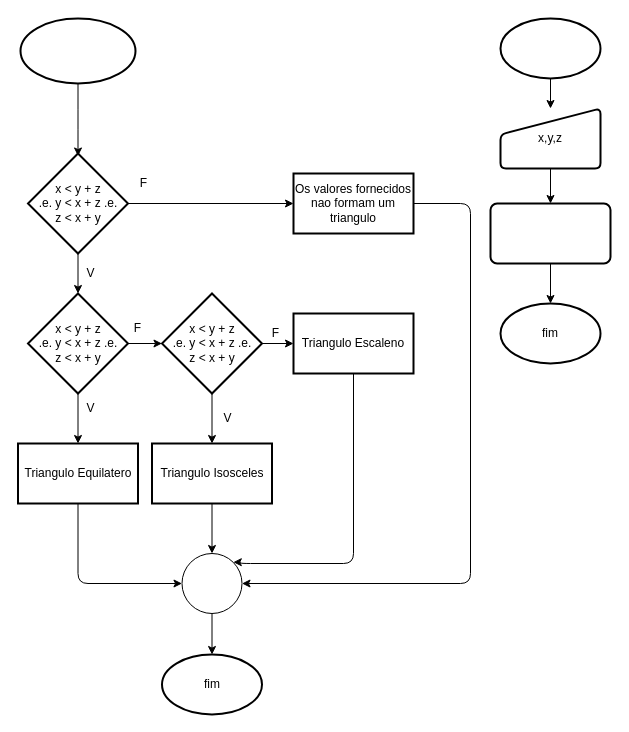
This 629x732 diagram has some shape labels left out. The centre of each missing label's shape, as x and y in pixels:
"inicio" belongs at point (550, 48).
"real tipo_de_triangulo ( x : real, y : real, z : real)" belongs at point (77, 50).
"tipo_de_triangulo (x,y,z)" belongs at point (550, 233).
